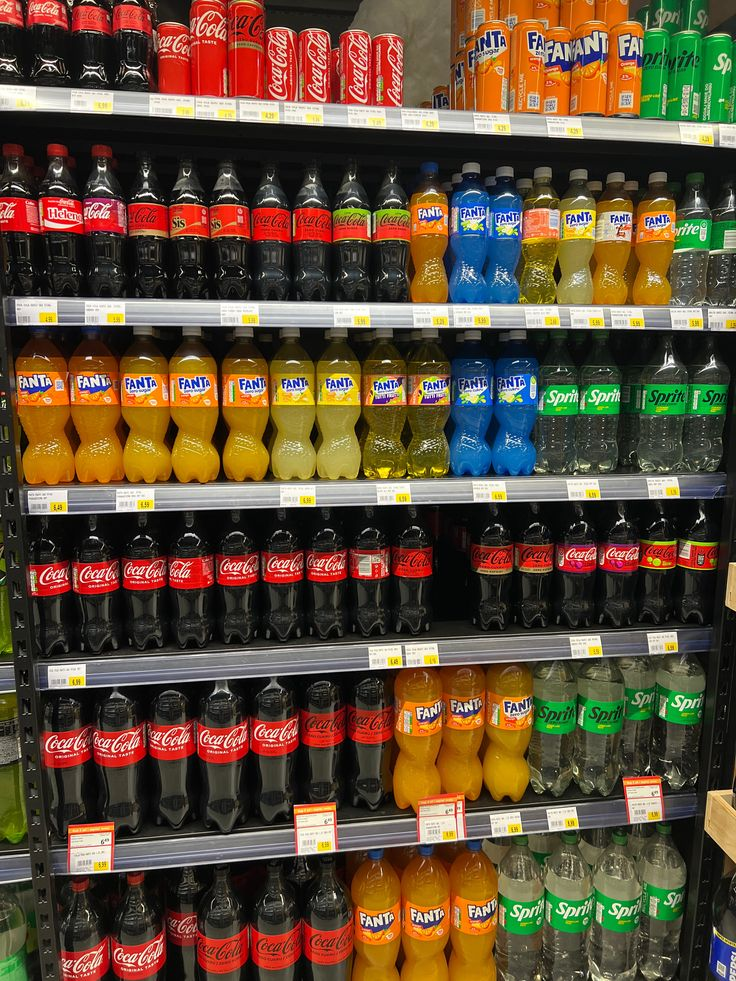soft_drink: (393, 668, 442, 811), (317, 341, 360, 478), (169, 158, 208, 298), (411, 165, 447, 302), (228, 0, 263, 98)
